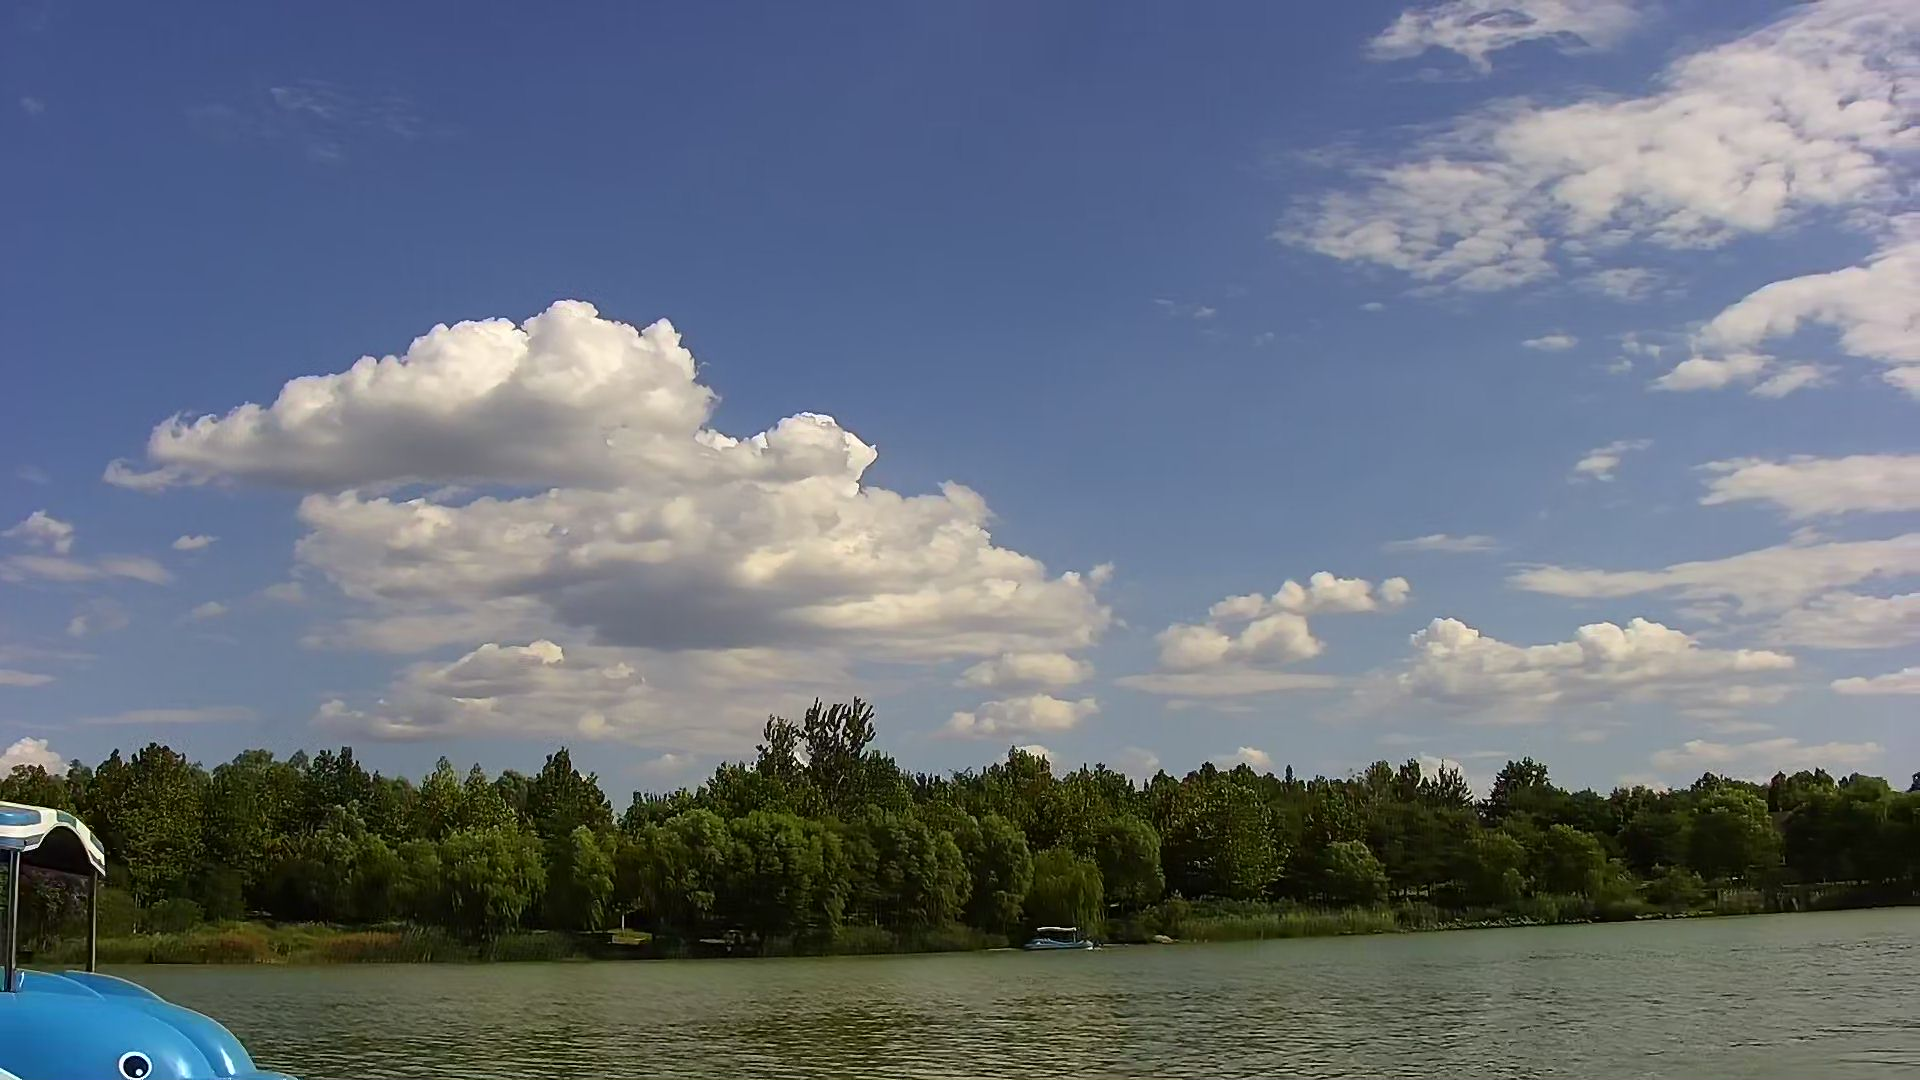boat: (1014, 920, 1098, 960)
